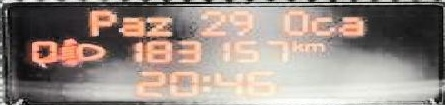0: (165, 70, 196, 95), (29, 39, 54, 60)
1: (219, 41, 230, 61), (132, 42, 141, 62)
2: (134, 70, 163, 95), (196, 9, 225, 34)
3: (174, 39, 198, 62)
4: (212, 71, 241, 94)
5: (232, 39, 256, 62)
6: (245, 70, 274, 95)
7: (265, 39, 287, 60)
8: (143, 39, 169, 62)
9: (227, 9, 252, 34)
X: (87, 9, 114, 35), (280, 9, 305, 34), (336, 15, 363, 34), (307, 15, 332, 34), (143, 17, 169, 34), (118, 17, 143, 34), (301, 42, 323, 51), (199, 74, 210, 90), (290, 39, 301, 50)
